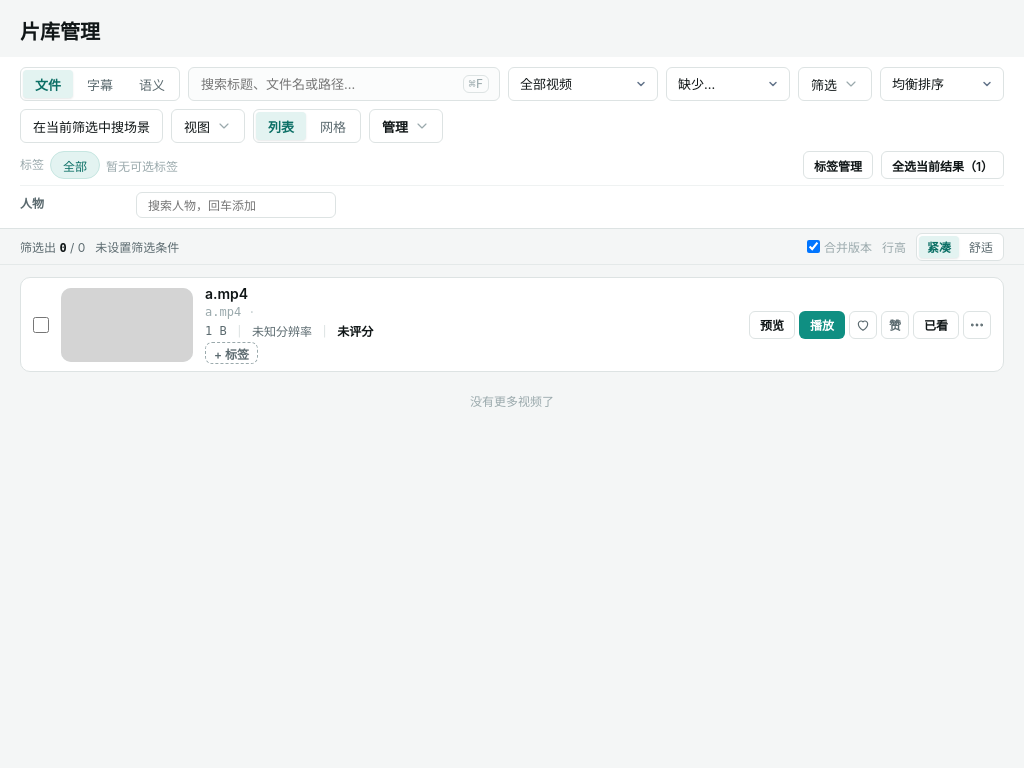
Test: 行内 ⋯ 菜单 › 点 ⋯ 后菜单留在屏幕上，不被同一次 click 冒泡关掉
The image size is (1024, 768).
What coordinates should you click on to do the following:
click the button named "更多操作"
I would click on:
 (977, 324)
Its box is [963,310,991,338].
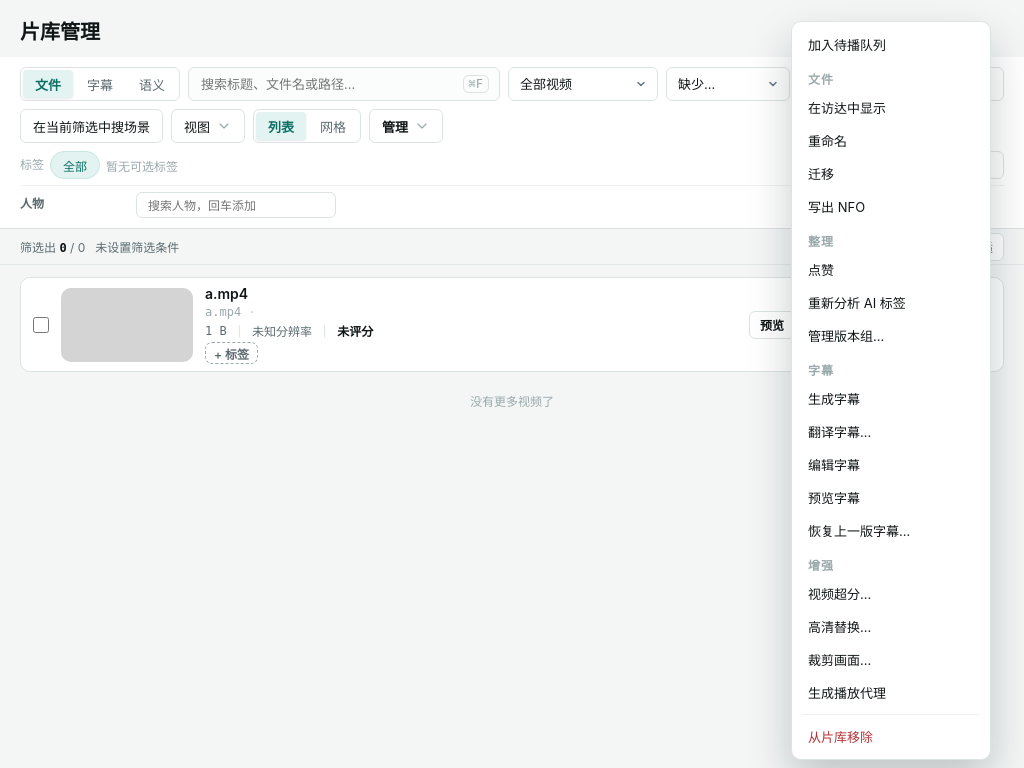
Expected: the menu item with class "base-menu__item" showing "加入待播队列" is shown, [798,28,984,61]
